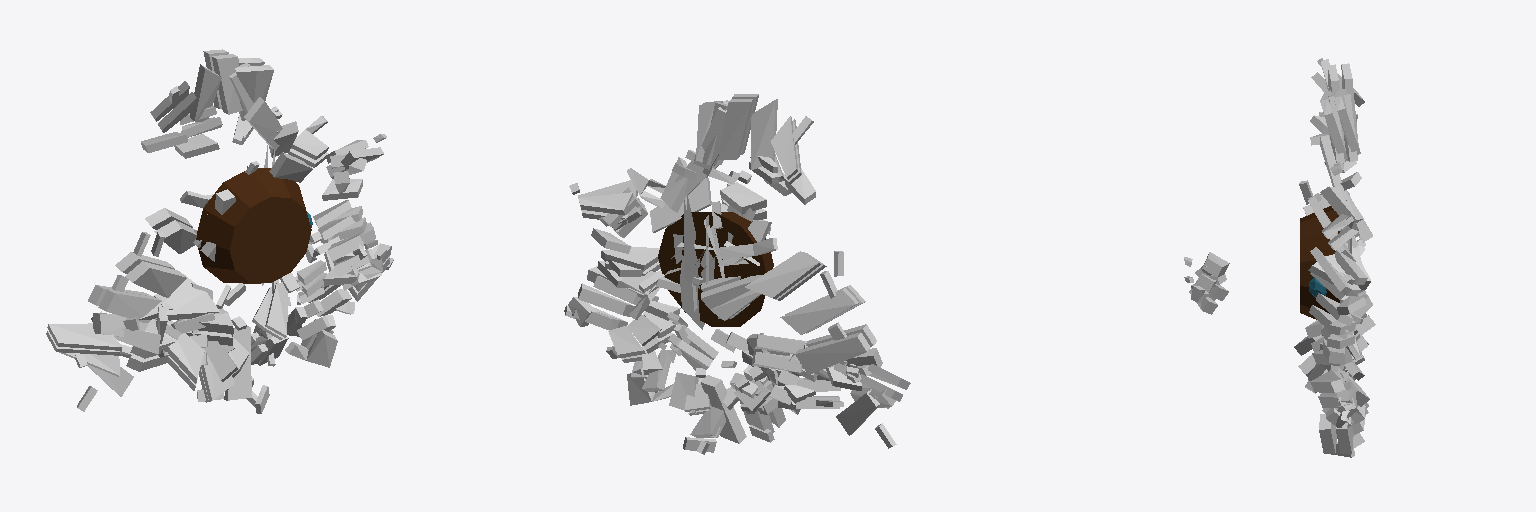
3 renders of one model, left to right at view 1: azimuth 30°, elevation 25°; view 2: azimuth 150°, elevation 25°; view 3: azimuth 270°, elevation 25°, orthographic.
Parts seen in each view (by area): view 1: Cone_Cone_cover, Cone.001_Cone.001_cover, Cylinder_Cylinder_Material.001; view 2: Cone_Cone_cover, Cone.001_Cone.001_cover, Cylinder_Cylinder_Material.001, Plane_Plane_Material.003; view 3: Cone.001_Cone.001_cover, Cone_Cone_cover, Cylinder_Cylinder_Material.001.
Boxes of the visible parts, x1=… form: Cone_Cone_cover: x1=88, y1=121, x2=393, y2=413; Cone.001_Cone.001_cover: x1=46, y1=49, x2=386, y2=411; Cylinder_Cylinder_Material.001: x1=196, y1=168, x2=311, y2=283; Cone_Cone_cover: x1=564, y1=157, x2=882, y2=454; Cone.001_Cone.001_cover: x1=569, y1=94, x2=910, y2=448; Cylinder_Cylinder_Material.001: x1=658, y1=212, x2=773, y2=326; Plane_Plane_Material.003: x1=665, y1=195, x2=759, y2=329; Cone.001_Cone.001_cover: x1=1191, y1=58, x2=1368, y2=407; Cone_Cone_cover: x1=1184, y1=186, x2=1375, y2=457; Cylinder_Cylinder_Material.001: x1=1300, y1=206, x2=1339, y2=319.
Bounding box in the file's own units: 3.42 × 3.53 × 1.67.
4 materials, 1 textured.